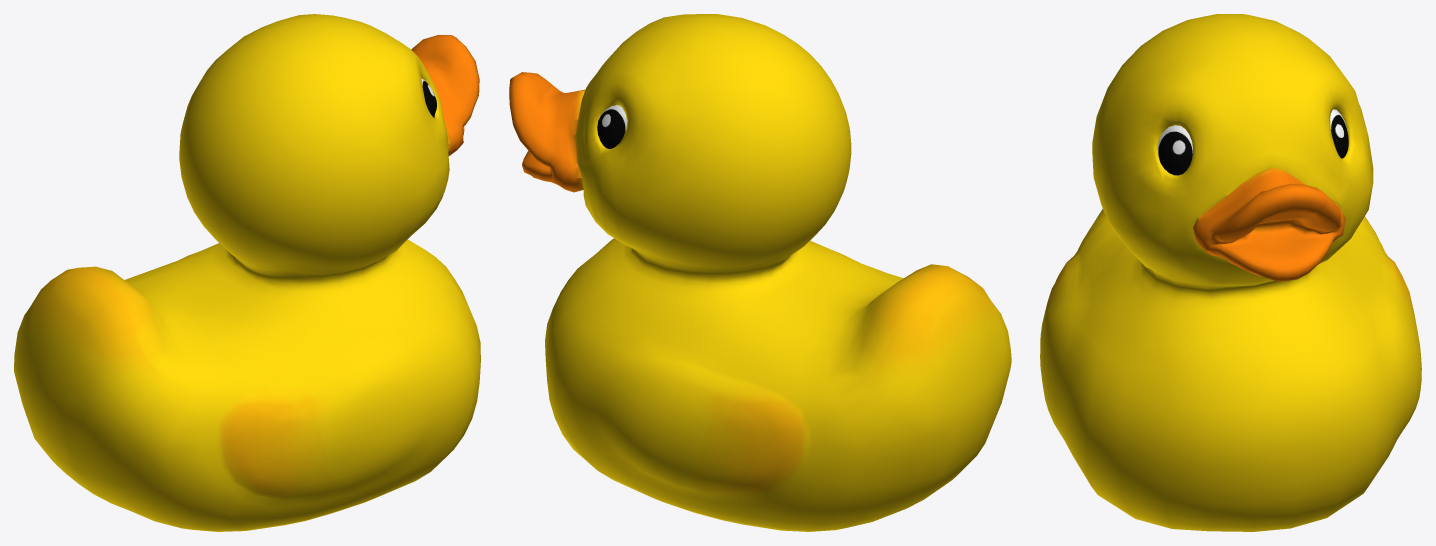
File: Duck.draco-notex.glb
The picture shows the model from 3 angles, left to right: view 1: azimuth 30°, elevation 25°; view 2: azimuth 150°, elevation 25°; view 3: azimuth 270°, elevation 25°; orthographic projection. The views are drawn at different scales.
Visible parts, largest first — view 1: LOD3spShape; view 2: LOD3spShape; view 3: LOD3spShape.
Part boxes in pixels (box(x1,y1,x2,y2)): LOD3spShape: box(14, 14, 480, 531); LOD3spShape: box(509, 14, 1011, 531); LOD3spShape: box(1040, 14, 1421, 531).
Size of the model in its own units: 1.65 by 1.54 by 1.15.
1 material, 1 textured.
